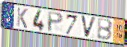4: (32, 8, 46, 32)
7: (65, 14, 80, 36)
B: (97, 18, 114, 42)
K: (16, 6, 29, 30)
P: (47, 11, 65, 34)
V: (80, 15, 97, 40)
